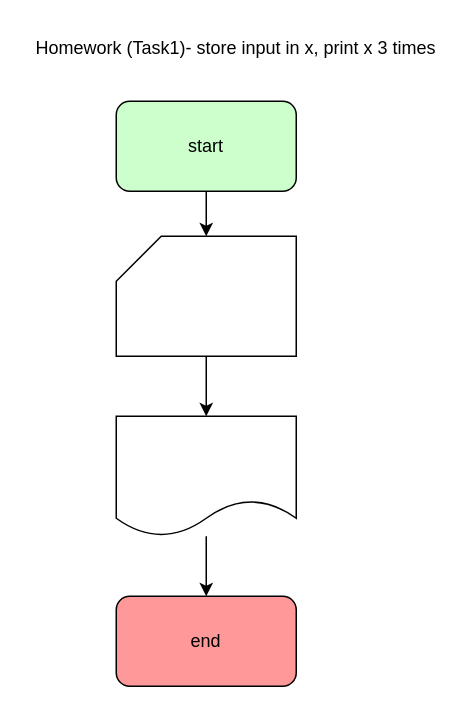
Some shapes in this 471 by 713 pixel diagram are drawn without their labels. Each missing label, with the centre of its shape:
print(x,x,x): (205,475)
x:int "Please enter the number: ": (205,295)
